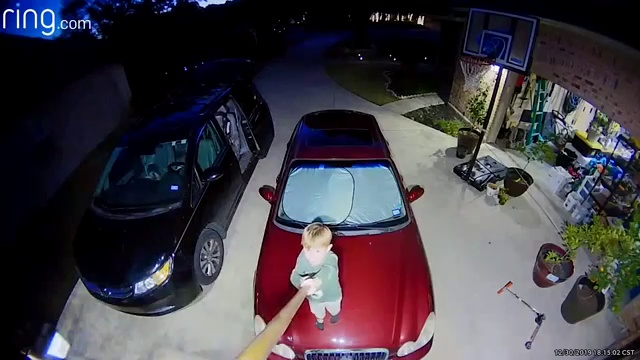face: (305, 244, 328, 264)
